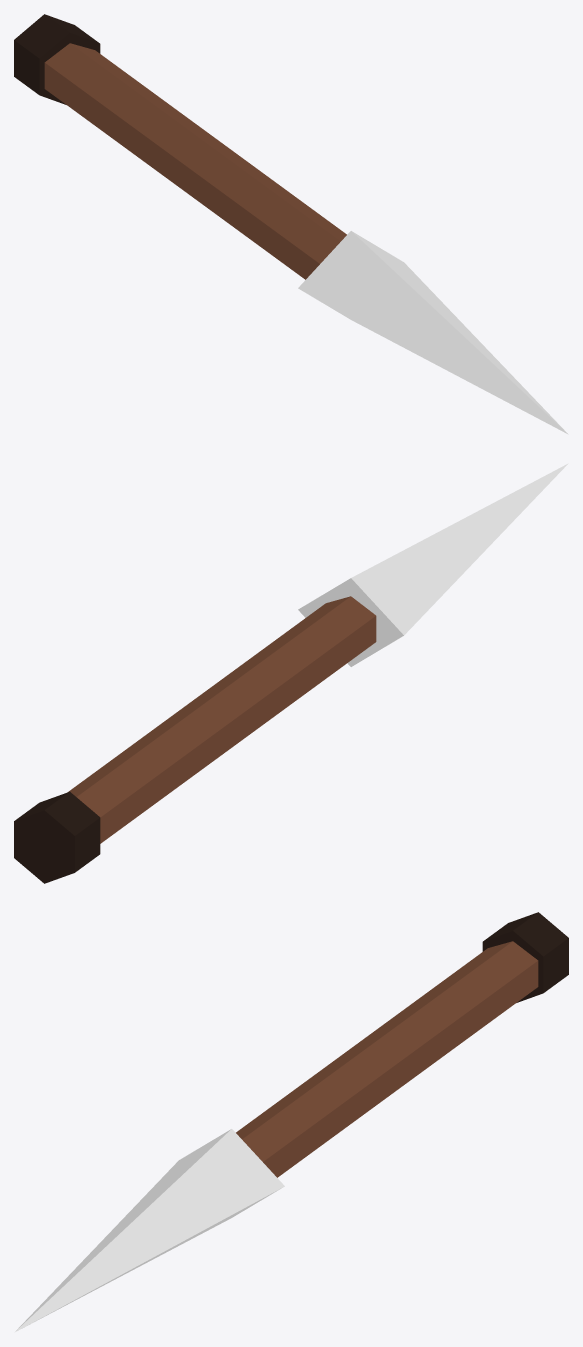
The model's file is Javelin.glb.
3 renders of one model, top to bottom at view 1: azimuth 30°, elevation 25°; view 2: azimuth 150°, elevation 25°; view 3: azimuth 330°, elevation 25°, orthographic.
Parts seen in each view (by area): view 1: Rod, Head, Base; view 2: Rod, Head, Base; view 3: Rod, Head, Base.
Part boxes in pixels (x1,y1,x2,y2): Rod: (44, 43, 346, 279); Head: (298, 231, 568, 434); Base: (14, 14, 100, 104); Rod: (67, 596, 376, 843); Head: (298, 463, 568, 666); Base: (14, 791, 100, 883); Rod: (236, 941, 538, 1177); Head: (14, 1129, 284, 1332); Base: (482, 912, 568, 1002).
Bounding box in the file's own units: 0.5072 × 0.4072 × 4.34.
Materials: 3 (3 with a texture image).
